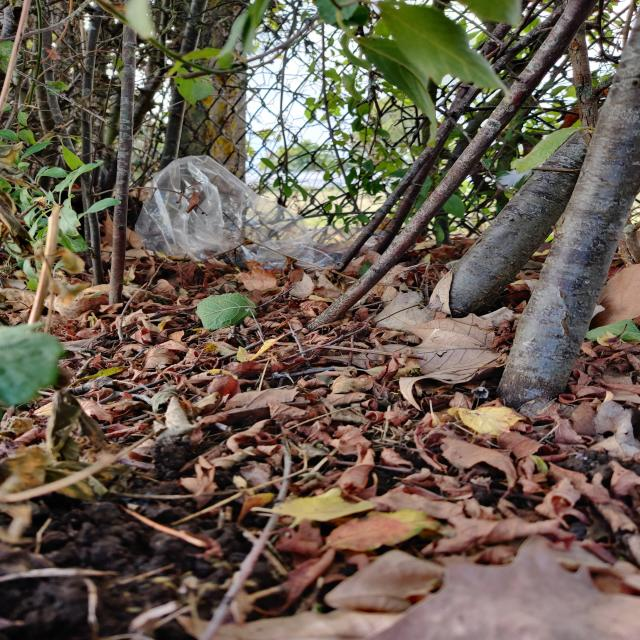litter: (137, 151, 339, 270)
